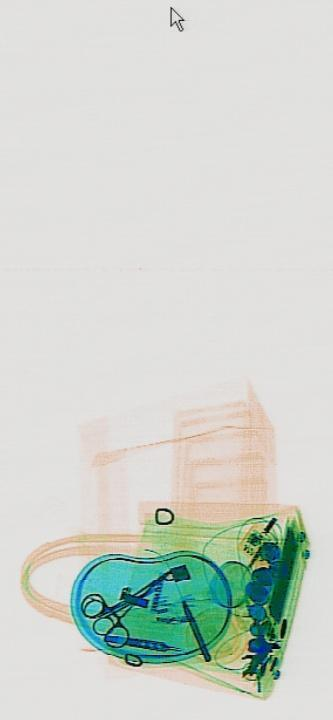Scissors: (77, 540, 178, 666), (81, 571, 139, 644)
